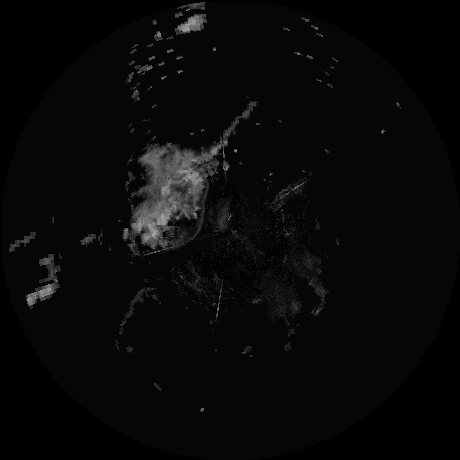frontgust: (147, 182, 209, 254)
